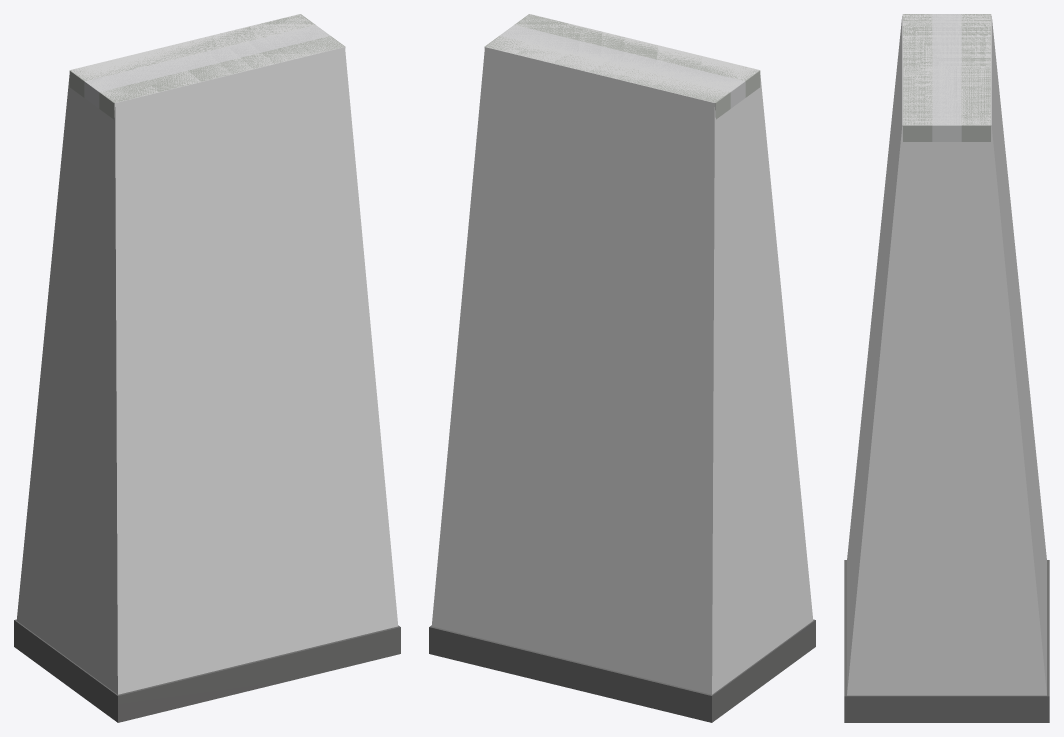
Rendered from Banner03_B1_1_01.FBX.
The picture shows the model from 3 angles, left to right: view 1: azimuth 30°, elevation 25°; view 2: azimuth 150°, elevation 25°; view 3: azimuth 270°, elevation 25°; orthographic projection.
Visible parts, largest first — view 1: Banner03_B1_Damage_1_01, Banner03_B1_Live_1_01; view 2: Banner03_B1_Damage_1_01, Banner03_B1_Live_1_01; view 3: Banner03_B1_Damage_1_01, Banner03_B1_Live_1_01.
Boxes of the visible parts, bbox=[...] form: Banner03_B1_Damage_1_01: bbox=[16, 14, 398, 694]; Banner03_B1_Live_1_01: bbox=[14, 14, 400, 722]; Banner03_B1_Damage_1_01: bbox=[431, 14, 813, 694]; Banner03_B1_Live_1_01: bbox=[429, 14, 815, 722]; Banner03_B1_Damage_1_01: bbox=[847, 14, 1046, 695]; Banner03_B1_Live_1_01: bbox=[844, 14, 1049, 722].
Size of the model in its own units: 0.8382 by 1.68 by 0.5334.
